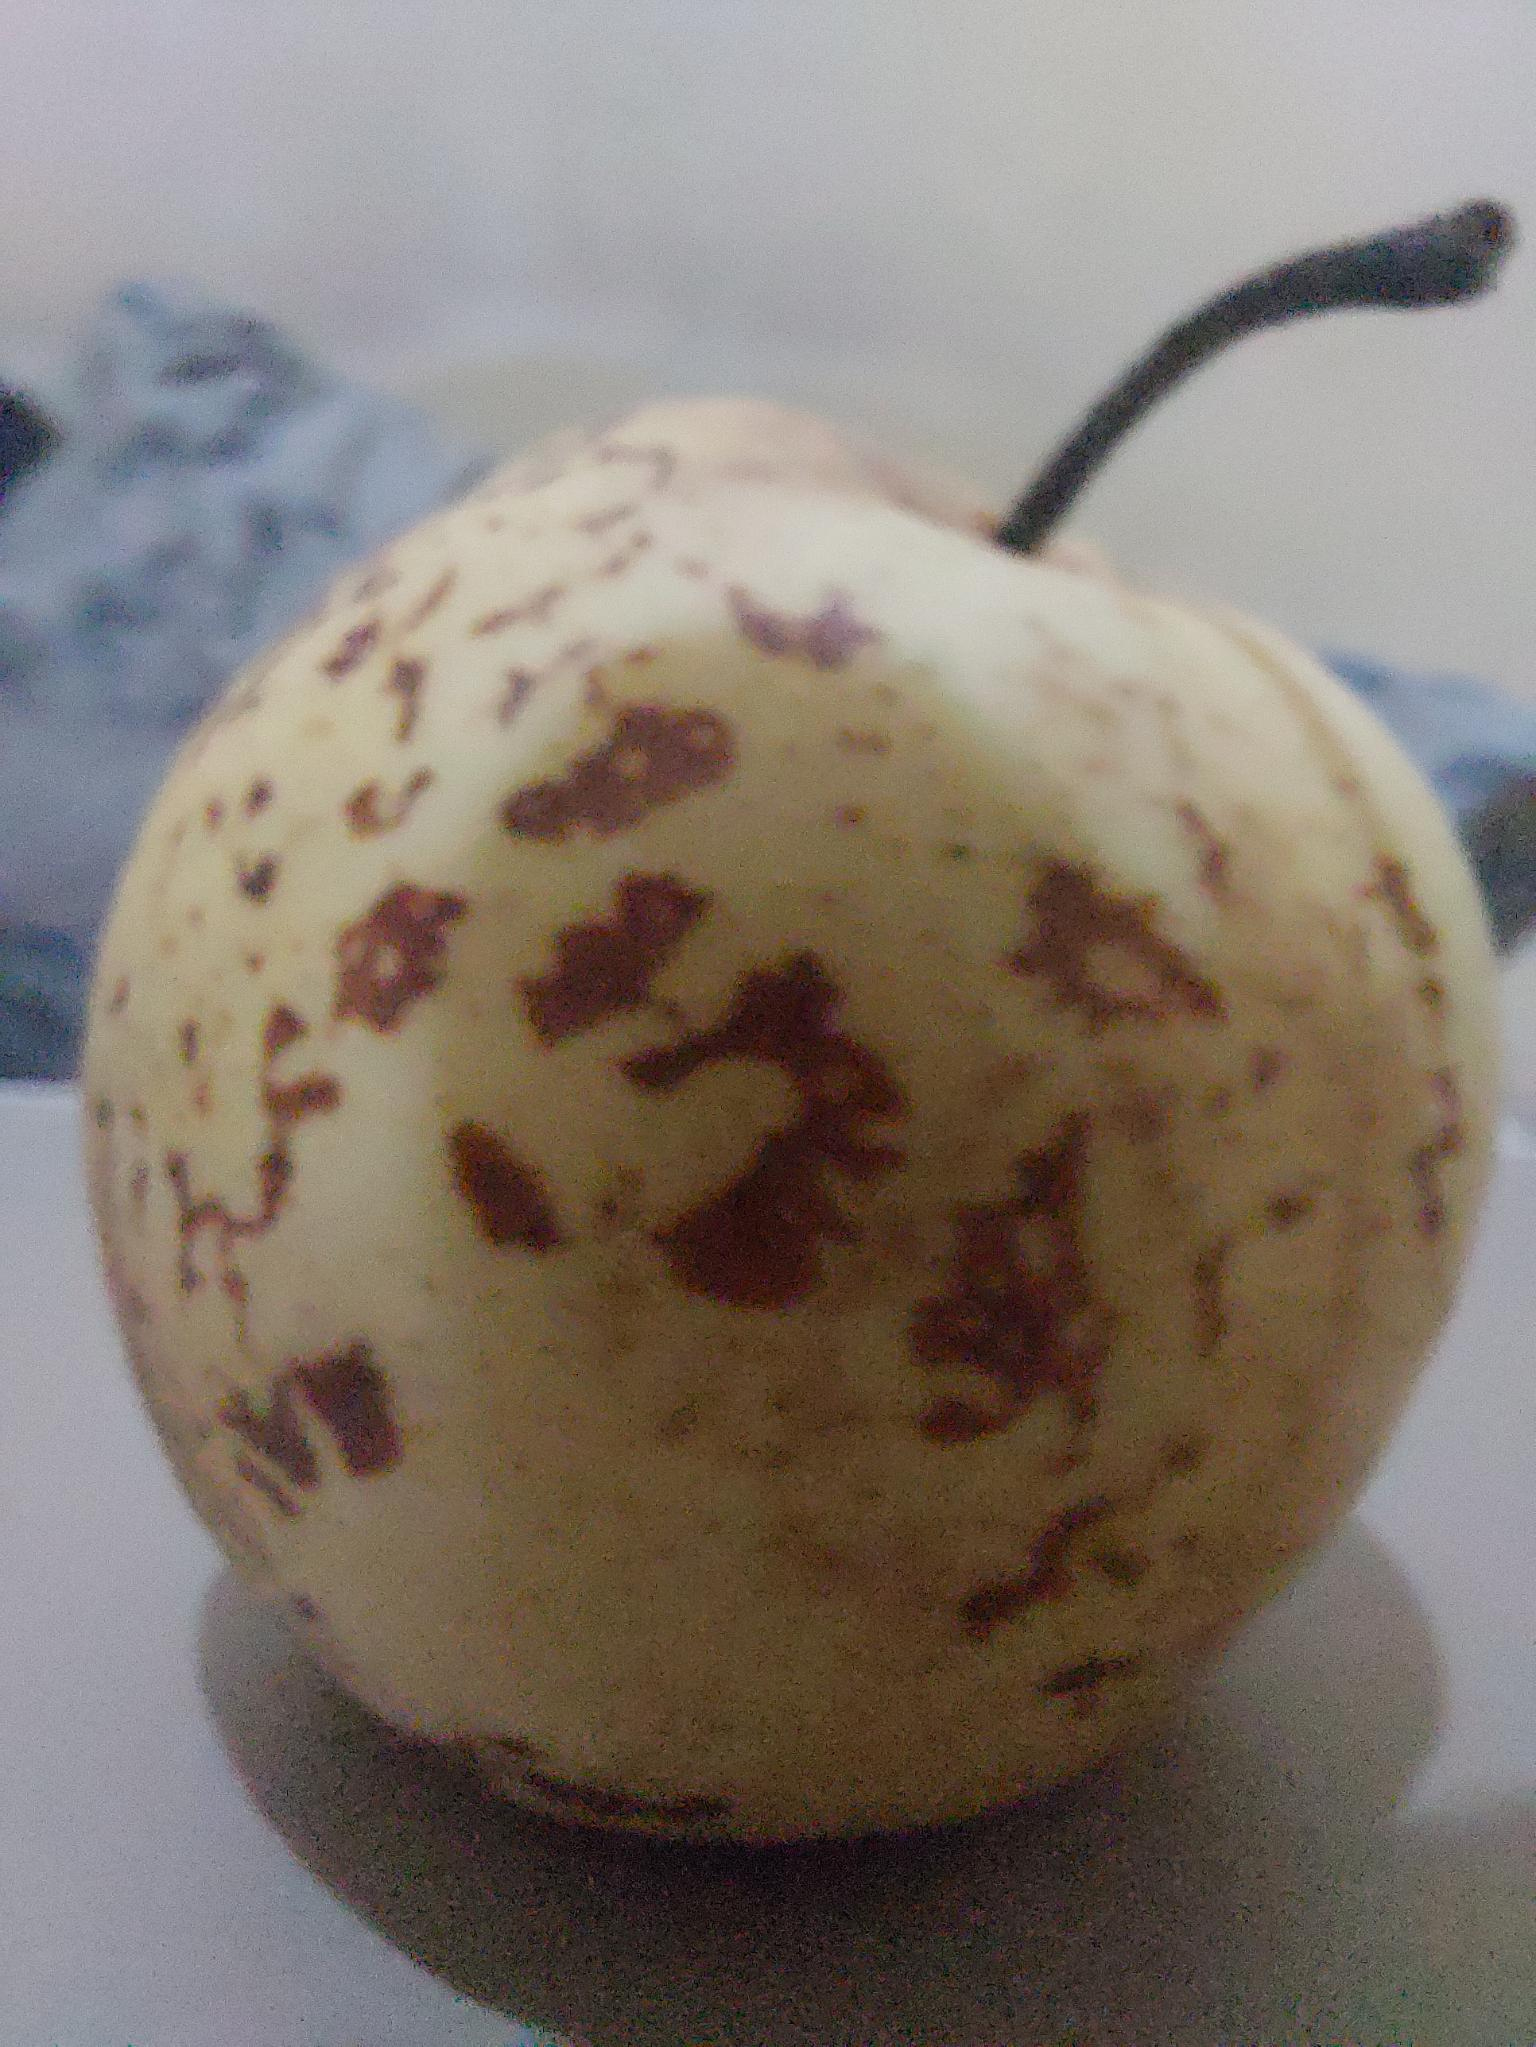Bad Pear: (72, 382, 1502, 1897)
